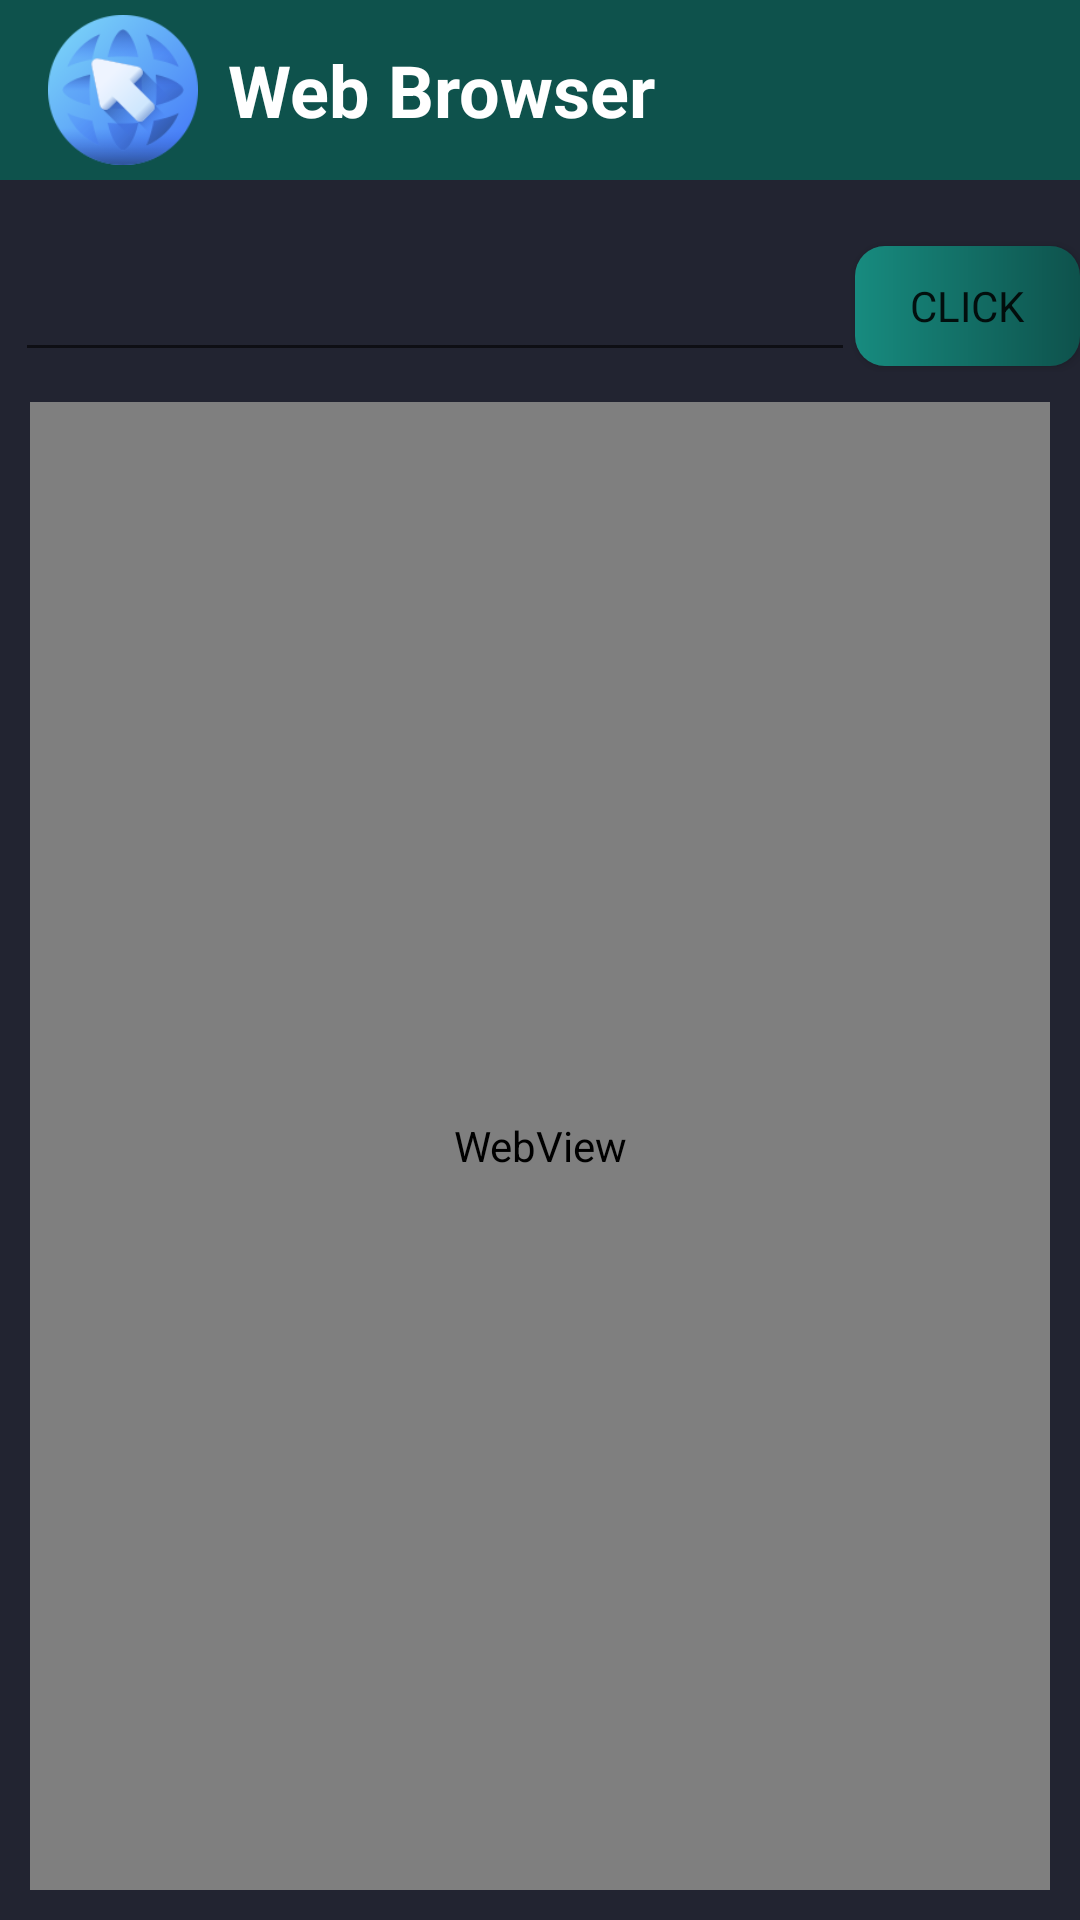

Locate icon controls on the screen. Image size 1080*1920, boxes as region(x1, y1, x2, y2).
browsericon: region(48, 15, 198, 165)
